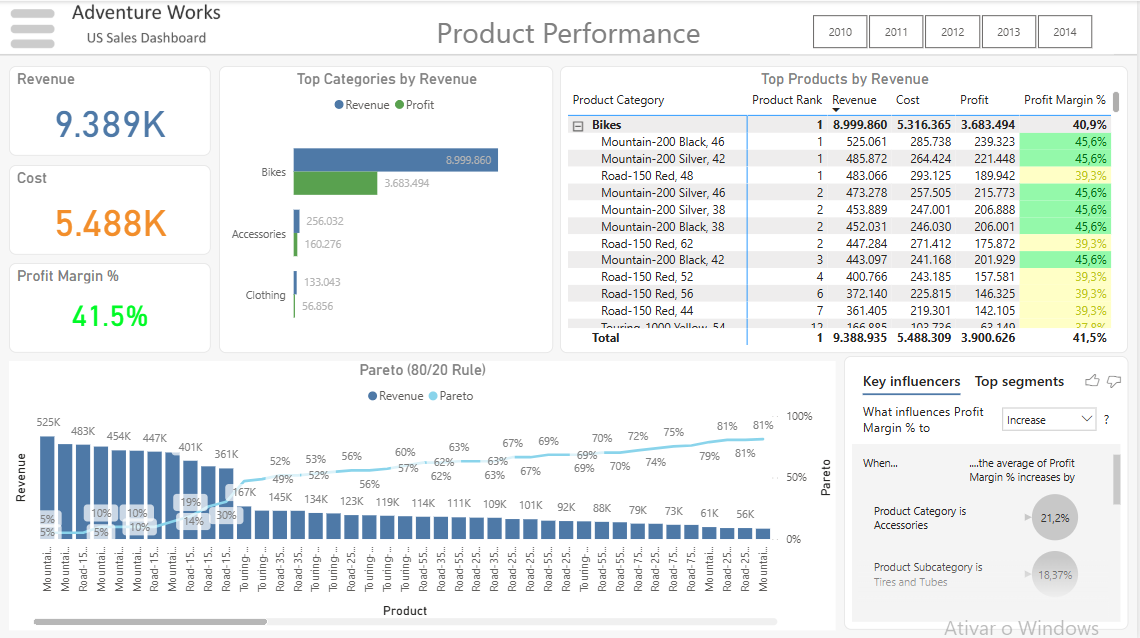

Layout of this report page (visuals, bound fields, positions):
{"tool":"powerbi","page":{"name":"Product Performance","canvas":[1280,720],"ordinal":1},"visuals":[{"type":"advanceCardE03760C5AB684758B56AA29F9E6C257B","title":"Profit Margin %","fields":{"mainMeasure":["#Measures.Profit Margin %"]},"box":[10,295,227,101],"z":0},{"type":"card","title":"Revenue","fields":{"Values":["#Measures.01 Revenue"]},"box":[10.1,73.1,227.2,101.2],"z":1000},{"type":"card","title":"Cost","fields":{"Values":["#Measures.02 Cost"]},"box":[10.1,184.5,227.2,101.2],"z":2000},{"type":"slicer","fields":{"Values":["DimDate.CalendarYear"]},"box":[888.8,9,364,50.6],"z":3000},{"type":"clusteredBarChart","title":"Top Categories by Revenue","fields":{"Y":["#Measures.Revenue","#Measures.Profit"],"Category":["DimProductCategory.EnglishProductCategoryName"]},"box":[246.4,73.1,375.8,322.9],"z":4000},{"type":"pivotTable","title":"Top Products by Revenue","fields":{"Rows":["DimProductCategory.EnglishProductCategoryName","DimProduct.EnglishProductName"],"Values":["#Measures.10 Rank Product ALLSELECTED","#Measures.Revenue","#Measures.Cost","#Measures.Profit","#Measures.Profit Margin %"]},"box":[630,73.1,639,322.9],"z":5000},{"type":"keyDriversVisual","title":"Top Products by Revenue","fields":{"Target":["#Measures.Profit Margin %"],"ExplainBy":["DimProductCategory.EnglishProductCategoryName","DimProductSubcategory.EnglishProductSubcategoryName","DimDate.CalendarYear","#Measures.Cost","#Measures.Profit","#Measures.Revenue","DimProduct.EnglishProductName"]},"box":[949.5,405,319.5,308.2],"z":6000},{"type":"actionButton","box":[0,0,72,59.6],"z":7000},{"type":"textbox","box":[477,6.8,325.1,55.1],"z":9000},{"type":"lineClusteredColumnComboChart","title":"Pareto (80/20 Rule)","fields":{"Y":["#Measures.01 Revenue"],"Category":["DimProduct.EnglishProductName"],"Y2":["#Measures.18 Pareto with Ranking"]},"box":[10.1,410.6,930.4,302.6],"z":10000}]}

Visuals, with their boxes on the page's 1280x720 design canvas (x1, y1, x2, y2). These are canvas units, not pixel positions in the 1140x638 screenshot, which may show the page scaled, cropped or inside an application window:
"Profit Margin %" advanceCardE03760C5AB684758B56AA29F9E6C257B: bbox=[10, 295, 237, 396]
"Revenue" card: bbox=[10, 73, 237, 174]
"Cost" card: bbox=[10, 184, 237, 286]
slicer - DimDate.CalendarYear: bbox=[889, 9, 1253, 60]
"Top Categories by Revenue" clusteredBarChart: bbox=[246, 73, 622, 396]
"Top Products by Revenue" pivotTable: bbox=[630, 73, 1269, 396]
"Top Products by Revenue" keyDriversVisual: bbox=[950, 405, 1269, 713]
actionButton: bbox=[0, 0, 72, 60]
textbox: bbox=[477, 7, 802, 62]
"Pareto (80/20 Rule)" lineClusteredColumnComboChart: bbox=[10, 411, 940, 713]
